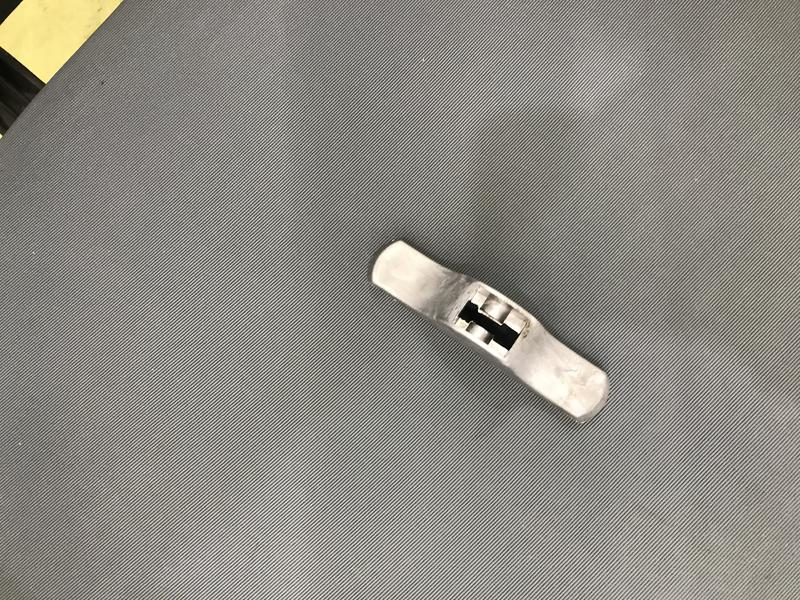zapchast: (359, 224, 625, 442)
